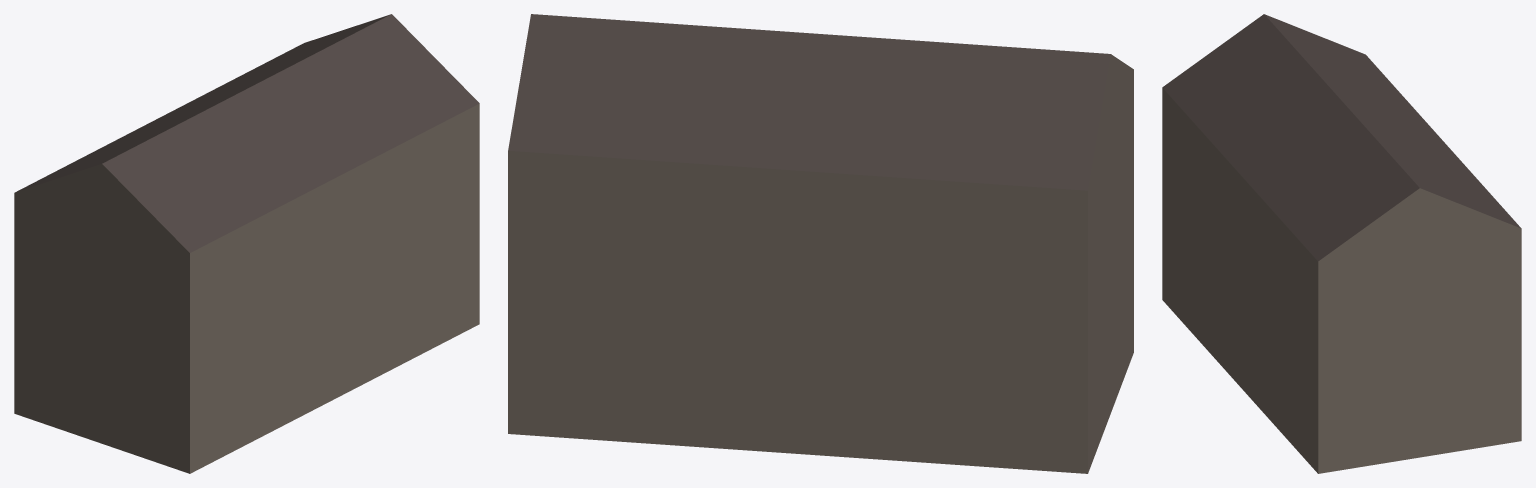
3 renders of one model, left to right at view 1: azimuth 30°, elevation 25°; view 2: azimuth 150°, elevation 25°; view 3: azimuth 270°, elevation 25°, orthographic. The views are drawn at different scales.
Visible parts, largest first — view 1: HP-w640649595; view 2: HP-w640649595; view 3: HP-w640649595.
Part boxes in pixels (x1=…): HP-w640649595: x1=14, y1=14, x2=479, y2=473; HP-w640649595: x1=508, y1=14, x2=1133, y2=473; HP-w640649595: x1=1162, y1=14, x2=1521, y2=473.
Size of the model in its own units: 12.54 by 7.61 by 9.2.
